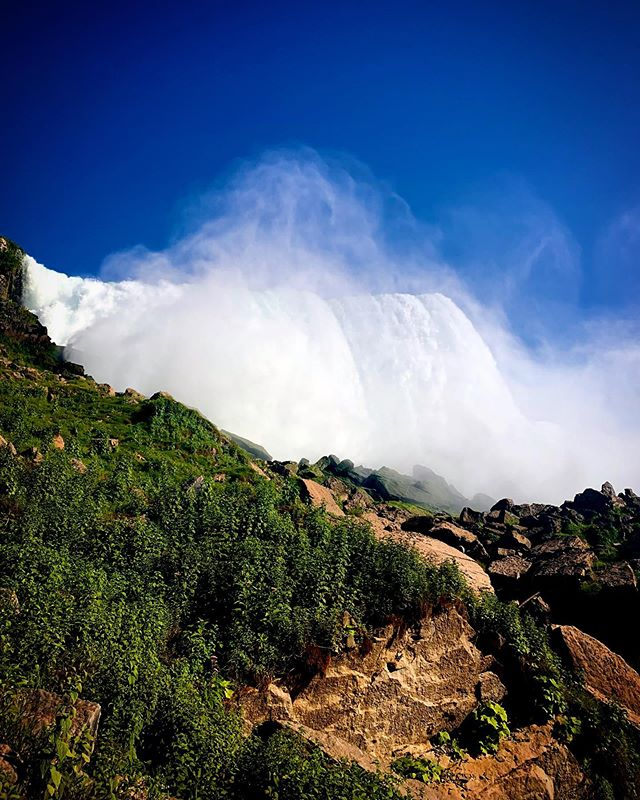sky: (14, 1, 640, 244)
vegetation: (1, 360, 396, 782)
waterfall: (29, 254, 514, 514)
